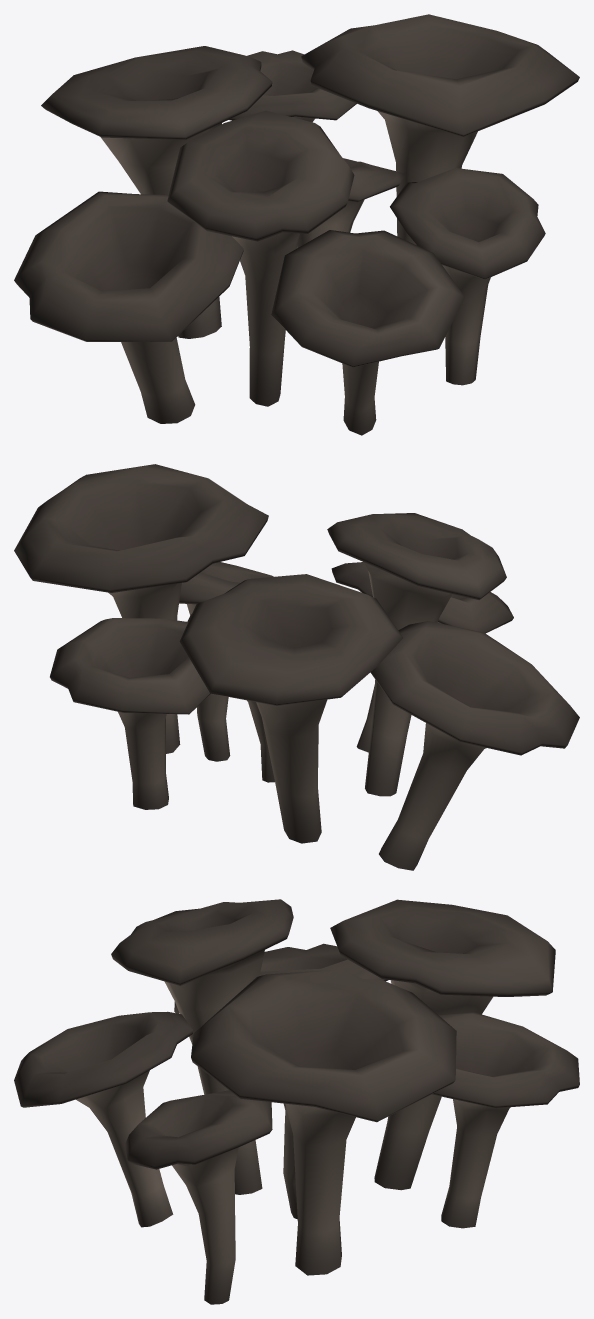
File: SM_Plant_BlackTrumpet_Lv3.fbx
The picture shows the model from 3 angles, top to bottom: view 1: azimuth 30°, elevation 25°; view 2: azimuth 150°, elevation 25°; view 3: azimuth 270°, elevation 25°; orthographic projection. The views are drawn at different scales.
Parts seen in each view (by area): view 1: SM_Plant_BlackTrumpet_Lv3; view 2: SM_Plant_BlackTrumpet_Lv3; view 3: SM_Plant_BlackTrumpet_Lv3.
Boxes of the visible parts, bbox=[...] form: SM_Plant_BlackTrumpet_Lv3: bbox=[14, 14, 579, 435]; SM_Plant_BlackTrumpet_Lv3: bbox=[14, 464, 579, 870]; SM_Plant_BlackTrumpet_Lv3: bbox=[14, 899, 579, 1304].
Size of the model in its own units: 75.98 by 42.77 by 68.62.
